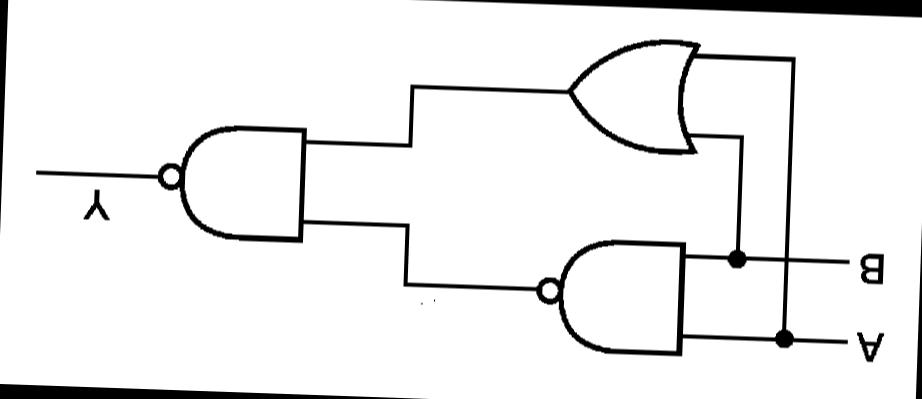nand: (522, 228, 710, 366), (148, 108, 318, 252)
or: (549, 22, 725, 163)
